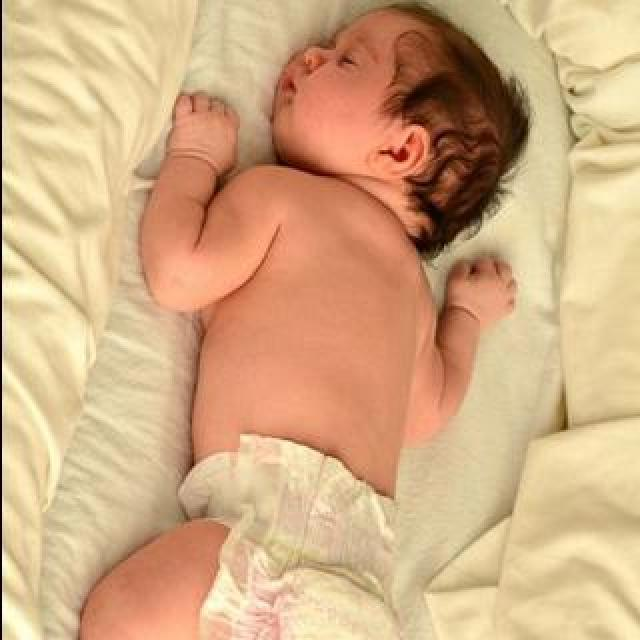baby: (69, 3, 537, 639)
